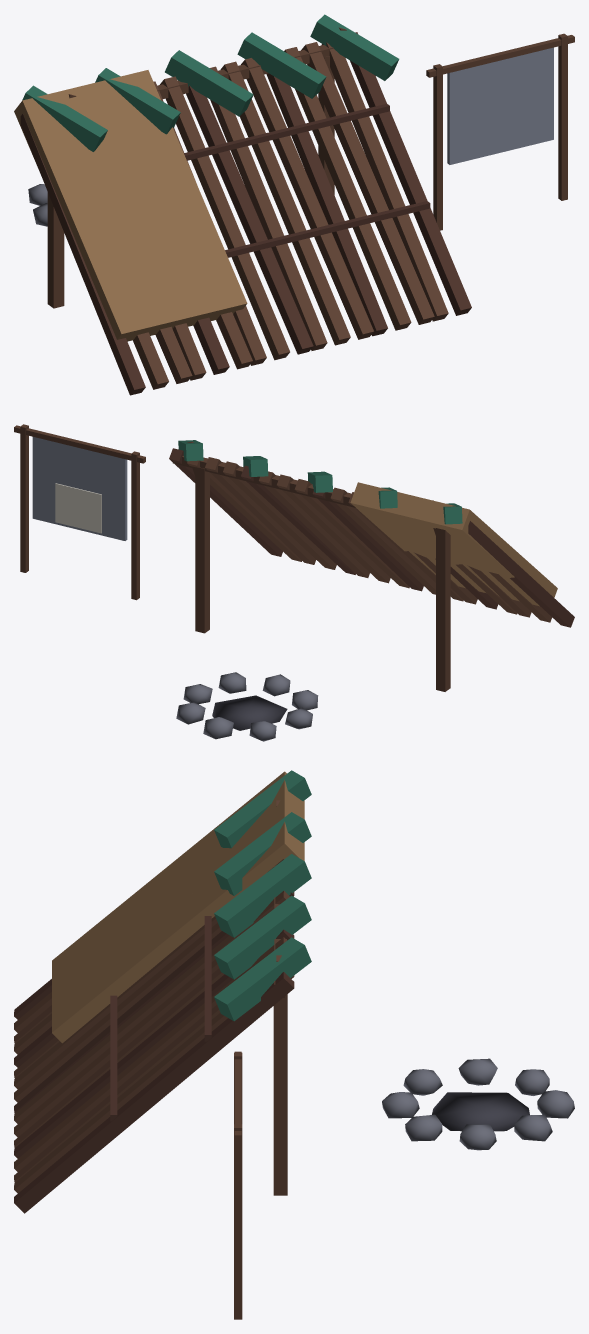
Rendered from hunters_lean_to.glb.
The picture shows the model from 3 angles, top to bottom: view 1: azimuth 30°, elevation 25°; view 2: azimuth 150°, elevation 25°; view 3: azimuth 270°, elevation 25°; orthographic projection. The views are drawn at different scales.
Parts seen in each view (by area): view 1: post-1.3; view 2: post-1.3; view 3: post-1.3.
Part boxes in pixels (x1,y1,x2,y2): post-1.3: [14, 14, 574, 395]; post-1.3: [14, 424, 574, 741]; post-1.3: [14, 770, 574, 1319].
Size of the model in its own units: 5.14 by 2.01 by 3.97.
